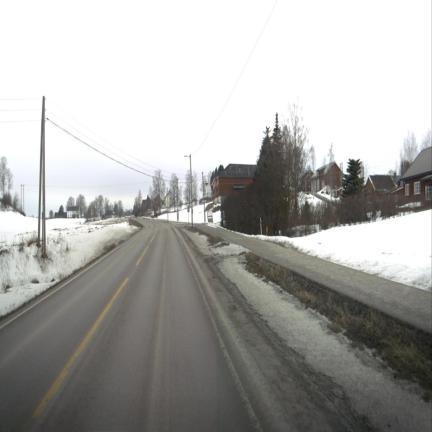Road: (0, 222, 260, 430)
